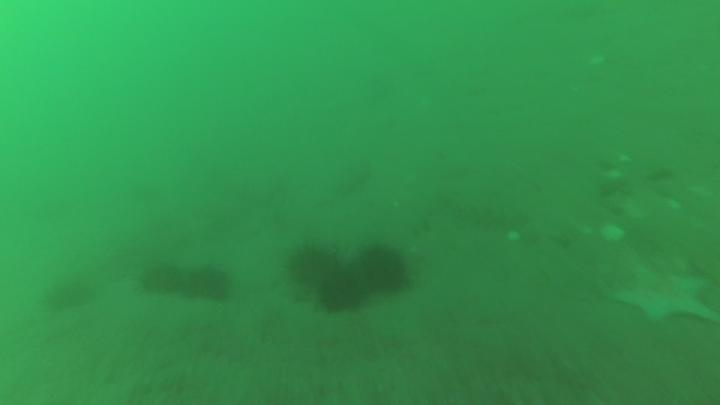echinus: (355, 250, 409, 293), (318, 271, 365, 310), (289, 249, 332, 284), (188, 272, 228, 303), (140, 269, 178, 294)
starfish: (611, 263, 717, 326)
